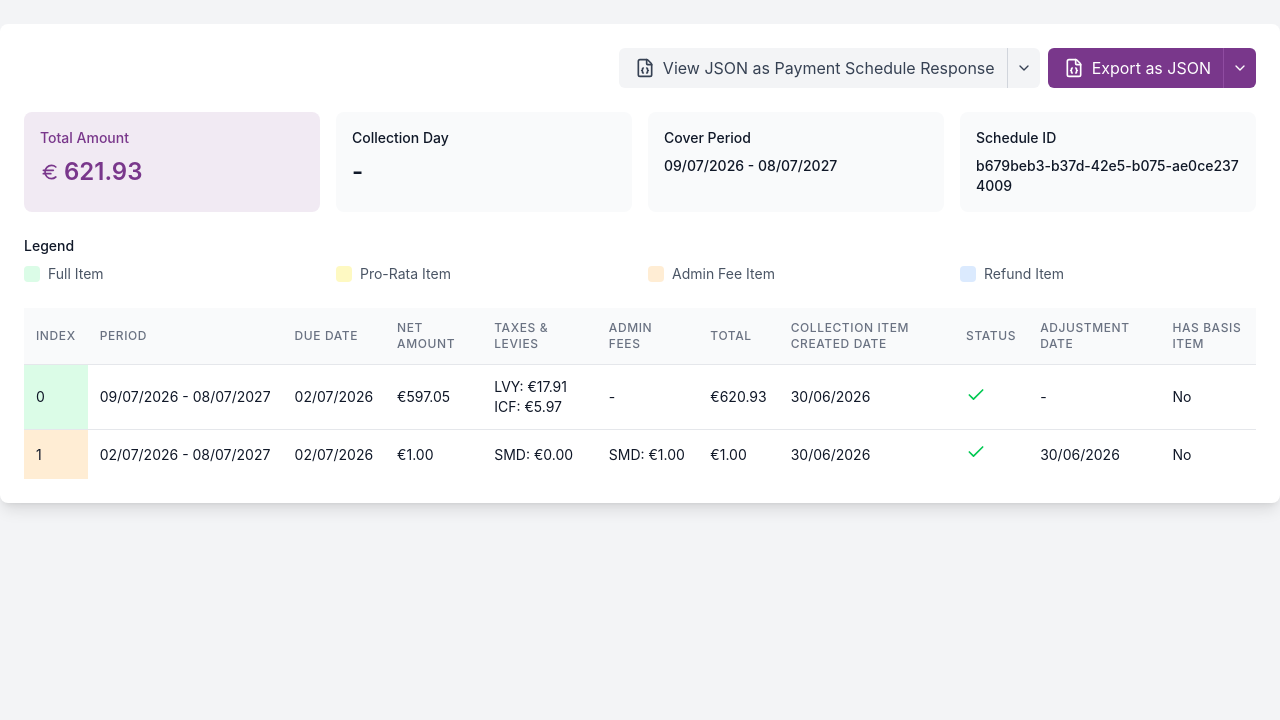
it: ScheduleDisplay › changes the View JSON button label when a different format is chosen
Step 1. Click the button named "Choose JSON view format" → (1023, 68), box [1007,48,1040,88]
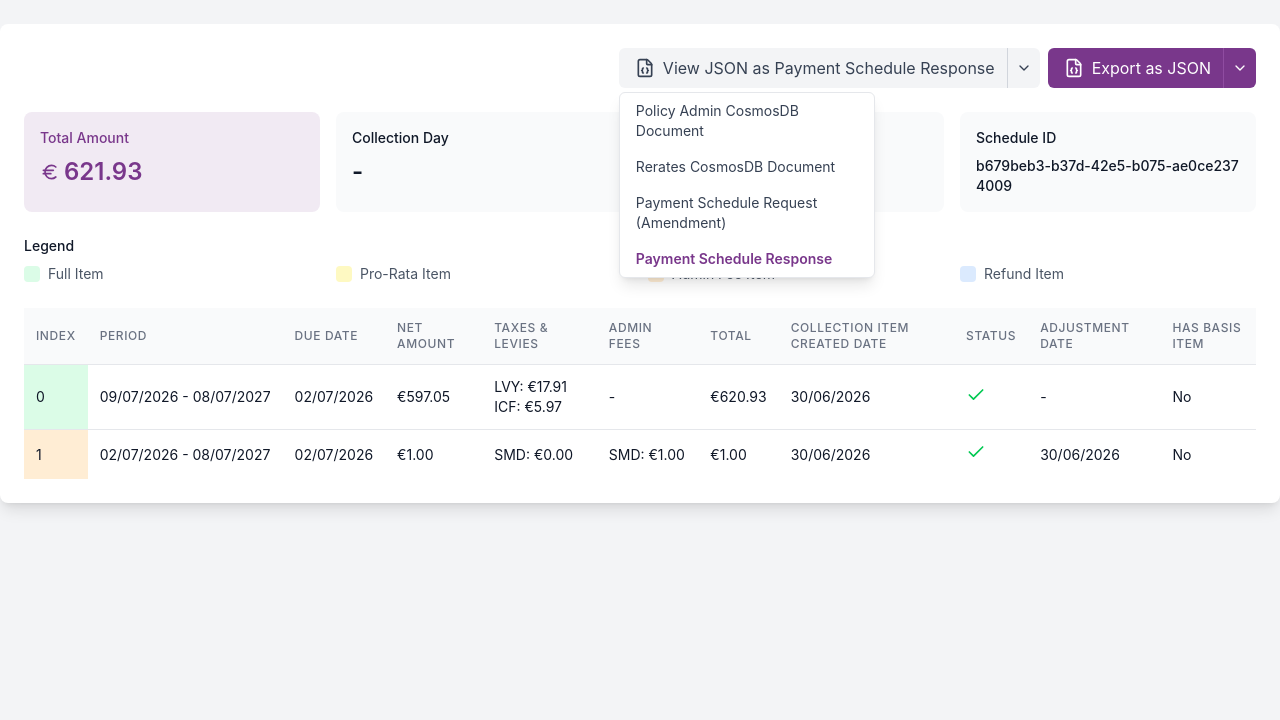
Step 2. Click the menu item "Policy Admin CosmosDB Document" → (747, 121), box [620,93,874,149]
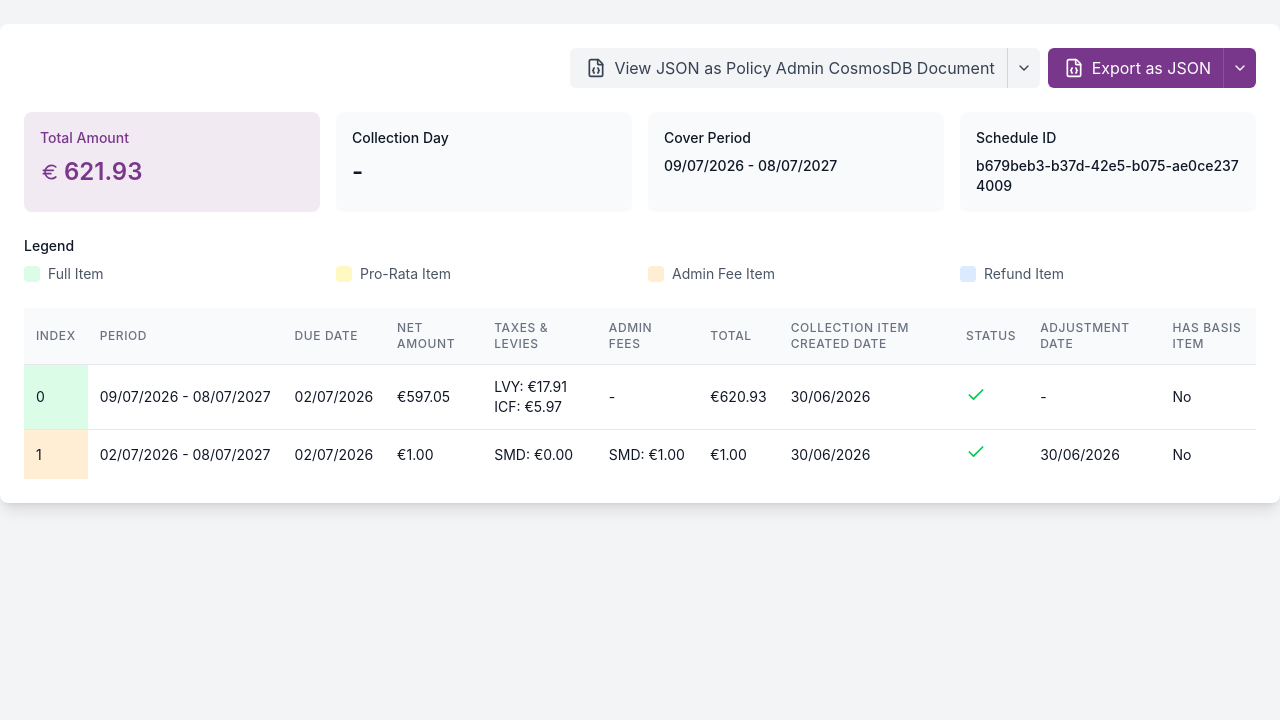
Check: the button "View JSON as Policy Admin CosmosDB Document" is shown, box [570,48,1007,88]
Check: the menu item is gone
